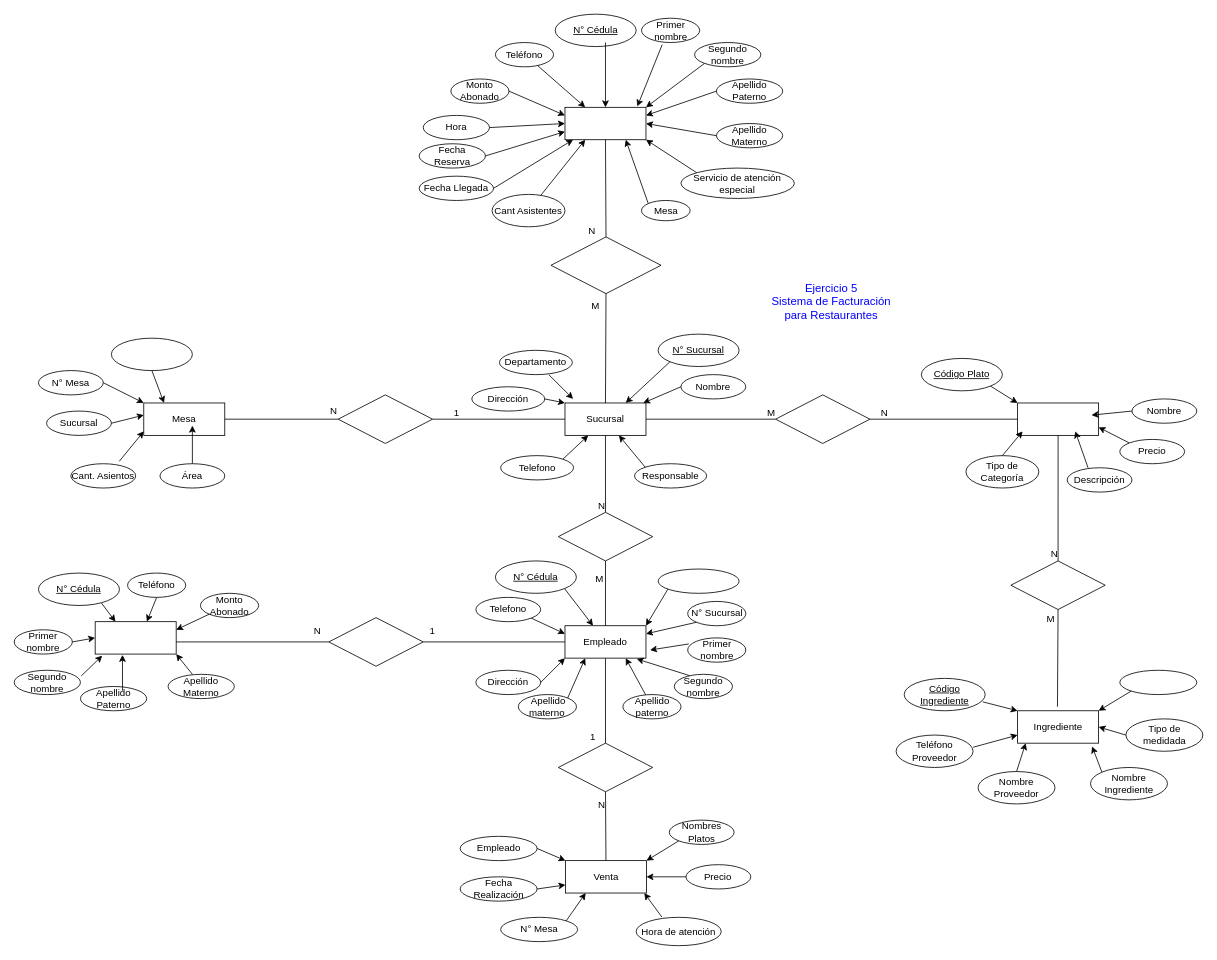
This 1217x960 diagram has some shape labels left out. The centre of each missing label's shape, as x and y in pixels:
"Cantidad Utilizada" goes at point 1158,682.
"Cliente" goes at point 135,637.
"Código único" goes at point 151,354.
"N° Empleado" goes at point 698,580.
"Ofrece Platillos" goes at point 822,418.
"Ofrece un servicio de reserva" goes at point 605,265.
"Pertenece" goes at point 385,418.
"Plato" goes at point 1058,418.
"Posee" goes at point 1057,585.
"Realizó la orden" goes at point 605,767.
"Registra" goes at point 375,641.
"Reserva" goes at point 605,123.
"Tiene" goes at point 605,536.
